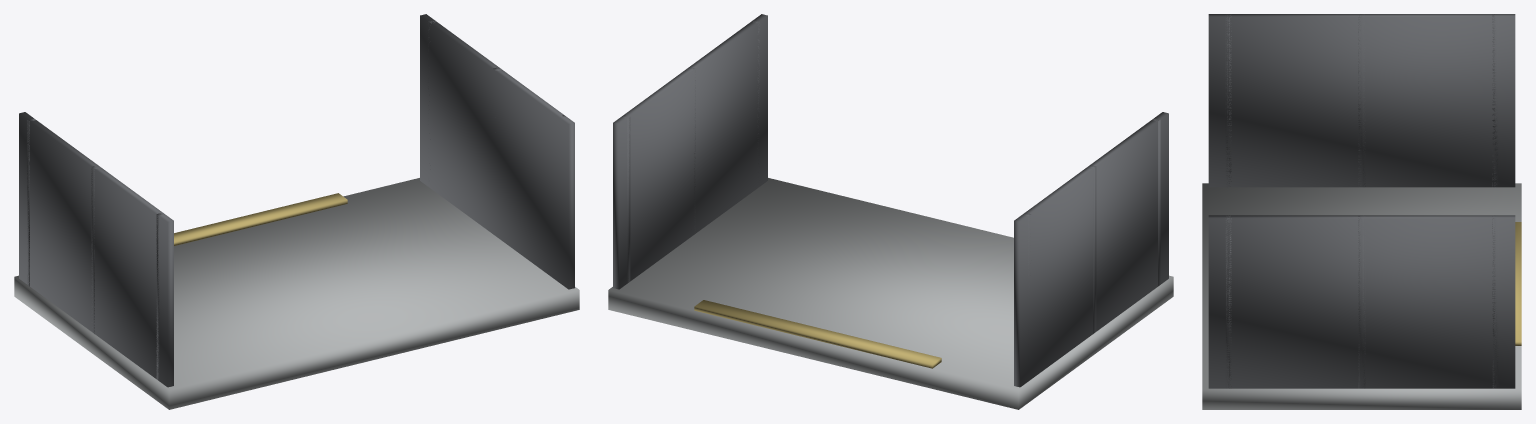
The model's file is floor_w260_d170_sides.glb.
3 renders of one model, left to right at view 1: azimuth 30°, elevation 25°; view 2: azimuth 150°, elevation 25°; view 3: azimuth 270°, elevation 25°, orthographic. The views are drawn at different scales.
Visible parts, largest first — view 1: world; view 2: world; view 3: world.
Boxes of the visible parts, <box> form: world: <box>14,14,579,409</box>; world: <box>608,14,1173,409</box>; world: <box>1202,14,1521,409</box>.
Bounding box in the file's own units: 2.6 × 1.12 × 1.7.
